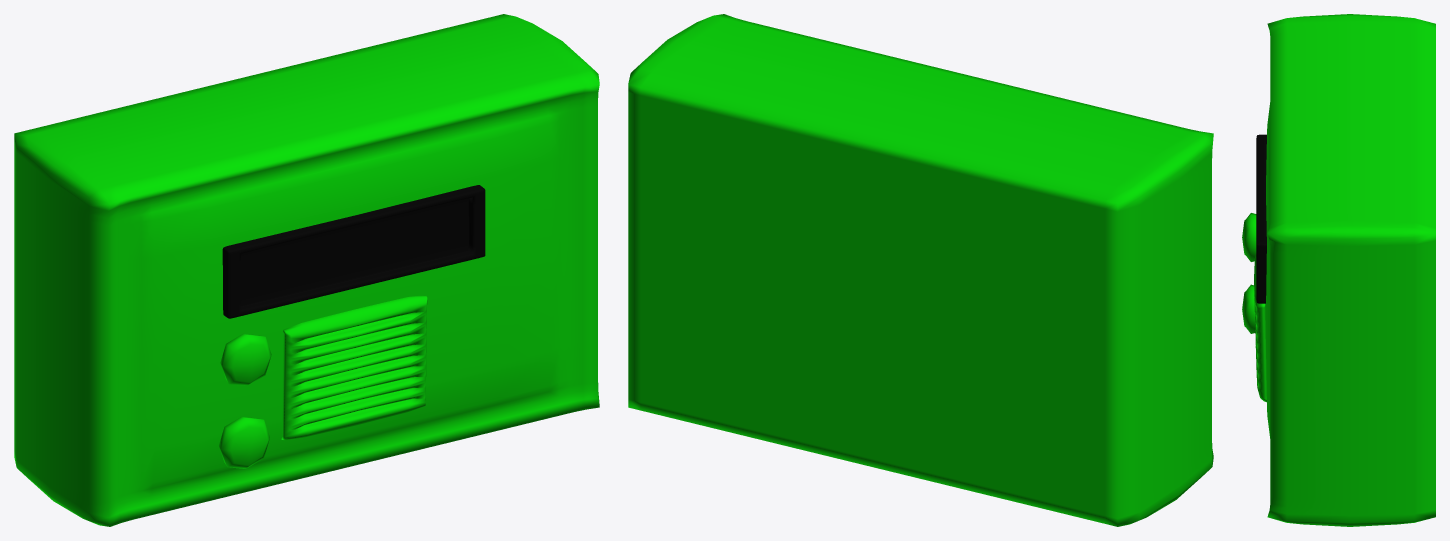
Rendered from Radio.fbx.
3 views of the same model, side by side, from view 1: azimuth 30°, elevation 25°; view 2: azimuth 150°, elevation 25°; view 3: azimuth 270°, elevation 25° (orthographic). The views are drawn at different scales.
Parts seen in each view (by area): view 1: Radio; view 2: Radio; view 3: Radio.
Part boxes in pixels (x1=…): Radio: x1=14, y1=14, x2=599, y2=526; Radio: x1=628, y1=14, x2=1213, y2=526; Radio: x1=1242, y1=14, x2=1435, y2=526.
Bounding box in the file's own units: 159 × 100 × 58.8.
